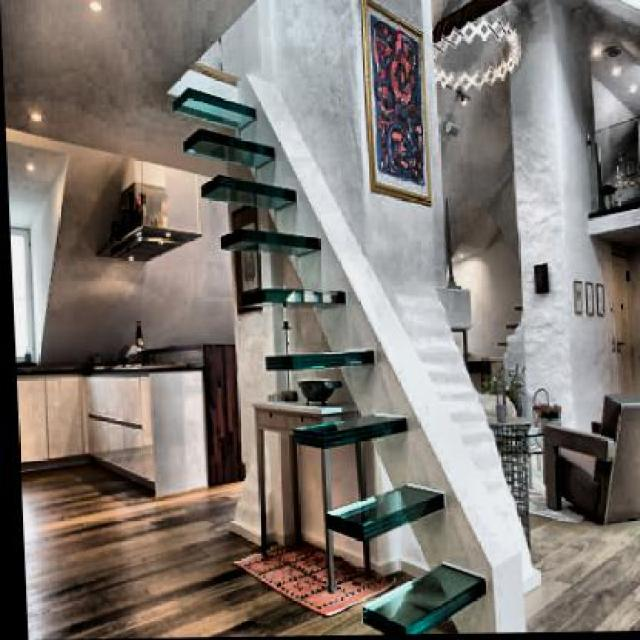stair: (172, 80, 485, 637)
